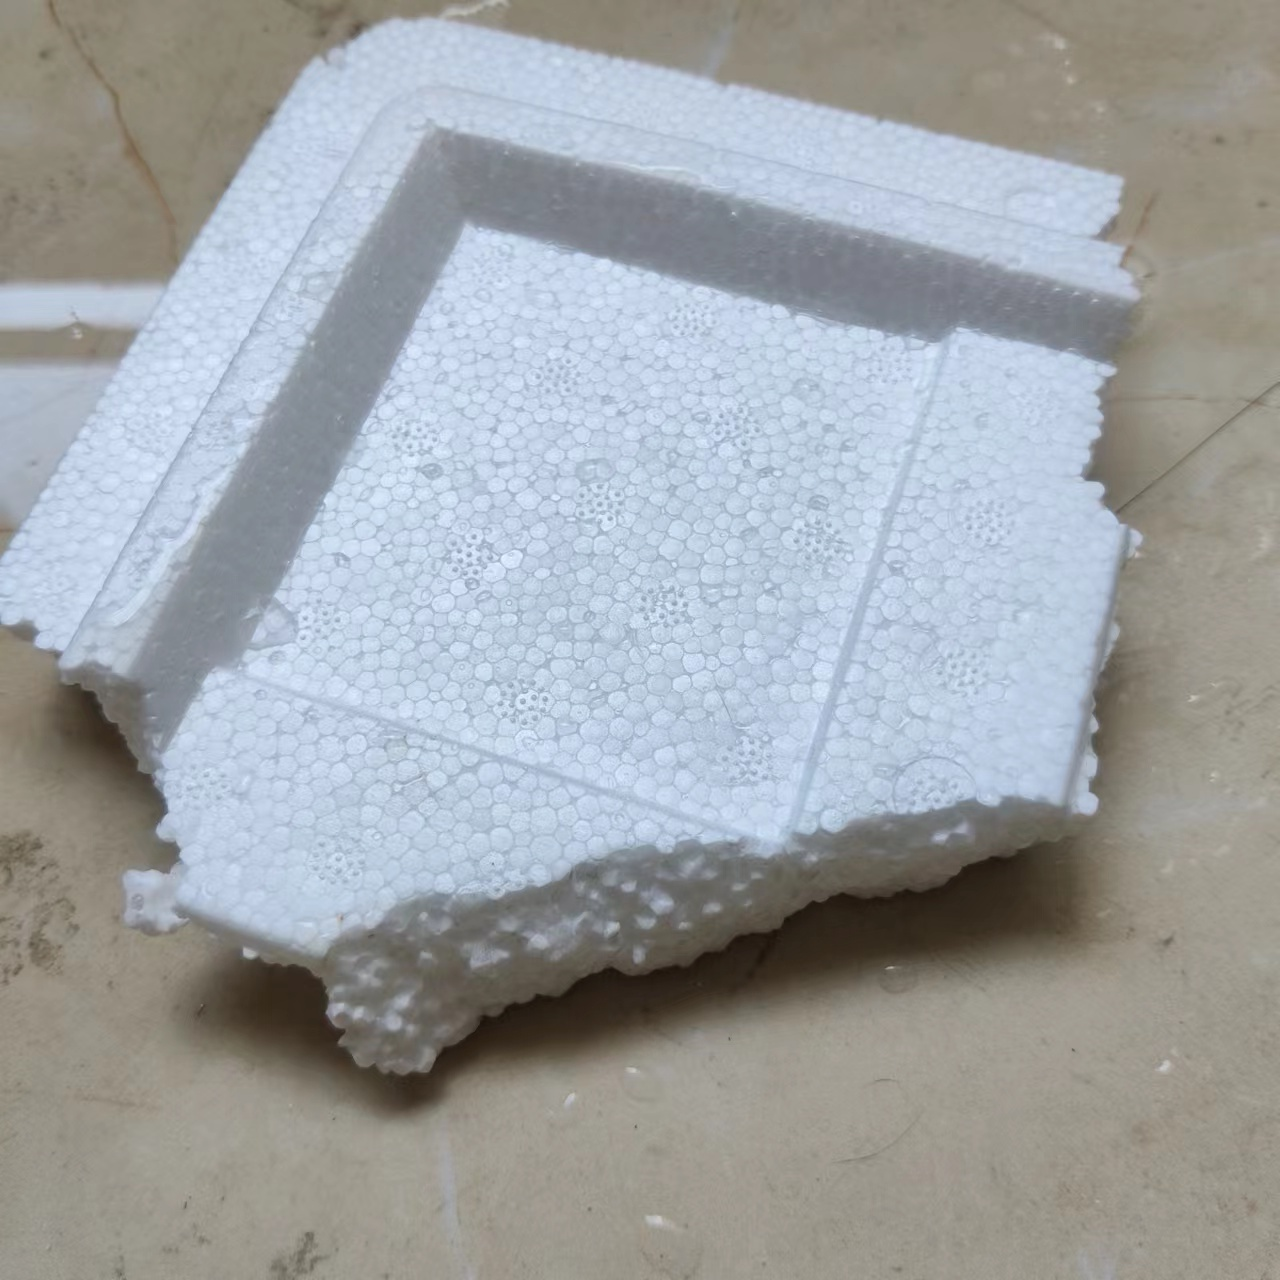5/可回收垃圾/泡沫: (1, 18, 1142, 1078)
